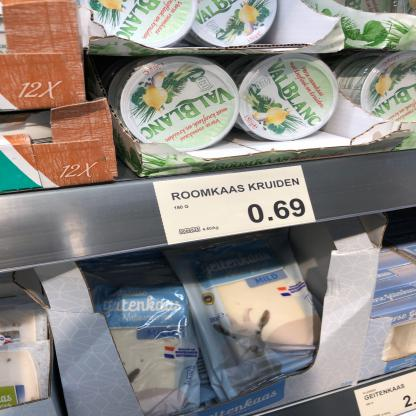prtg: (153, 166, 317, 246)
